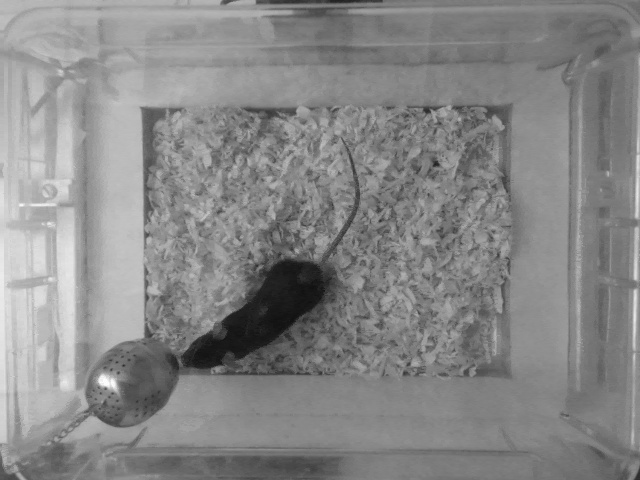mice: (176, 133, 357, 371)
